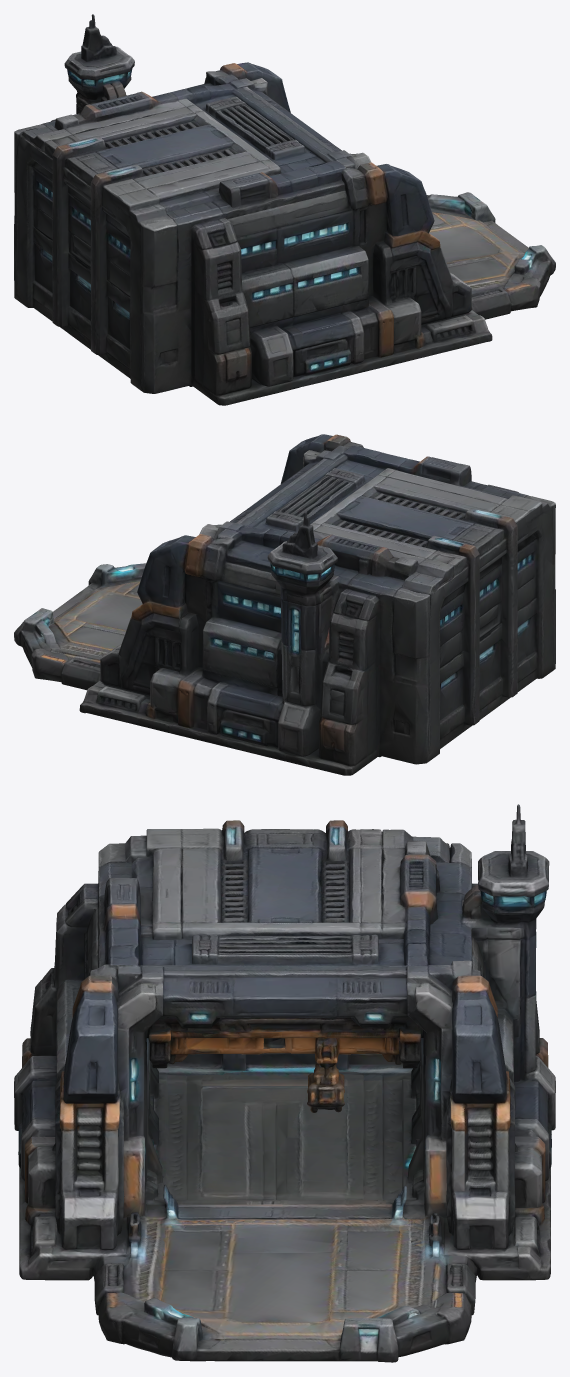
File: space_hangar.glb
The picture shows the model from 3 angles, top to bottom: view 1: azimuth 30°, elevation 25°; view 2: azimuth 150°, elevation 25°; view 3: azimuth 270°, elevation 25°; orthographic projection. The views are drawn at different scales.
Visible parts, largest first — view 1: tripo_node_2c396929-54bf-4852-b131-9aafca0bd66b; view 2: tripo_node_2c396929-54bf-4852-b131-9aafca0bd66b; view 3: tripo_node_2c396929-54bf-4852-b131-9aafca0bd66b.
Part boxes in pixels (x1,y1,x2,y2): tripo_node_2c396929-54bf-4852-b131-9aafca0bd66b: (14,14,555,405); tripo_node_2c396929-54bf-4852-b131-9aafca0bd66b: (14,434,555,775); tripo_node_2c396929-54bf-4852-b131-9aafca0bd66b: (14,804,555,1362).
Size of the model in its own units: 0.9999 by 0.5437 by 0.7782.
Materials: 1 (1 with a texture image).
